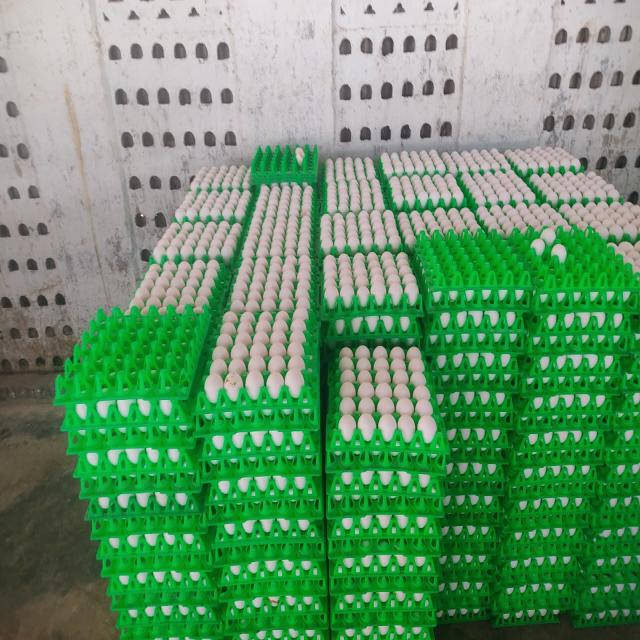egg_tray: (197, 185, 317, 415), (196, 312, 321, 481), (198, 255, 317, 414), (56, 308, 210, 427), (426, 274, 526, 451), (203, 300, 320, 427), (74, 443, 201, 557), (100, 517, 217, 633), (326, 345, 446, 457), (330, 512, 437, 635), (219, 518, 326, 636), (506, 408, 608, 531), (62, 399, 202, 487), (328, 491, 439, 601), (493, 482, 583, 614), (68, 399, 201, 486), (510, 459, 604, 581), (228, 185, 316, 313), (509, 228, 638, 315), (444, 420, 512, 581), (98, 517, 216, 609), (62, 405, 201, 477), (330, 345, 433, 442), (414, 231, 532, 315), (442, 417, 510, 558), (322, 252, 422, 345), (196, 407, 321, 481), (197, 408, 322, 481), (107, 555, 216, 637), (79, 447, 202, 519), (102, 531, 213, 609), (206, 495, 324, 565), (62, 393, 192, 454), (440, 482, 503, 607), (514, 385, 611, 465), (322, 251, 422, 327), (510, 393, 610, 468), (512, 393, 610, 468), (516, 387, 614, 461), (80, 462, 201, 521), (74, 442, 200, 498), (520, 346, 622, 413), (112, 574, 218, 637), (206, 471, 324, 526), (504, 460, 598, 529), (435, 383, 516, 463), (426, 289, 526, 353), (209, 513, 326, 567), (436, 519, 496, 623), (510, 406, 610, 468), (210, 513, 326, 566), (444, 436, 508, 531), (443, 437, 508, 530), (442, 411, 512, 497), (580, 482, 640, 582), (206, 476, 324, 526), (580, 507, 640, 605), (494, 535, 578, 605), (598, 357, 640, 497), (96, 531, 210, 581), (443, 413, 510, 497), (241, 184, 316, 259), (504, 467, 596, 528), (206, 474, 322, 522), (129, 259, 228, 315), (86, 487, 203, 534), (327, 469, 442, 516), (242, 185, 314, 260), (83, 485, 203, 529), (328, 513, 440, 560), (332, 589, 436, 639), (330, 548, 437, 595), (527, 308, 634, 355), (218, 555, 327, 601), (448, 394, 519, 464), (426, 304, 526, 353), (223, 587, 328, 633), (223, 591, 328, 637), (87, 506, 208, 543), (226, 596, 329, 639), (520, 352, 622, 395), (504, 482, 593, 531), (332, 590, 436, 631), (608, 355, 640, 485), (380, 148, 510, 180), (152, 220, 242, 266), (256, 582, 328, 639), (116, 598, 221, 637), (521, 350, 628, 388), (320, 209, 402, 257), (86, 487, 203, 520), (496, 543, 579, 589), (439, 519, 500, 581), (116, 604, 223, 639), (571, 573, 640, 627), (116, 605, 223, 639), (432, 350, 520, 391), (398, 207, 480, 251), (322, 157, 386, 213), (492, 569, 572, 613), (527, 171, 622, 207), (504, 488, 590, 527), (476, 202, 570, 237), (560, 201, 640, 242), (611, 349, 640, 462), (442, 414, 510, 461), (611, 354, 640, 462), (458, 169, 536, 209), (436, 387, 514, 427), (386, 173, 464, 213), (211, 423, 308, 455), (436, 570, 492, 625), (436, 569, 490, 623), (510, 464, 598, 497), (582, 519, 640, 569), (599, 429, 640, 499), (252, 145, 318, 187), (496, 527, 587, 557), (509, 489, 571, 533), (174, 189, 252, 222), (444, 456, 506, 495), (440, 537, 494, 581), (504, 147, 582, 177), (514, 228, 572, 268), (439, 540, 494, 581), (438, 543, 494, 583), (442, 489, 502, 525), (409, 207, 480, 237), (440, 521, 499, 557), (572, 596, 640, 627), (379, 150, 446, 180), (442, 148, 510, 176), (121, 619, 214, 639), (332, 622, 434, 639), (190, 165, 250, 192), (130, 572, 214, 591), (332, 624, 434, 639), (571, 606, 640, 628), (436, 596, 488, 625), (546, 475, 592, 507), (488, 607, 559, 627), (490, 607, 560, 627), (512, 555, 570, 579), (324, 157, 376, 183), (533, 544, 572, 575), (228, 627, 328, 639), (608, 239, 640, 273), (613, 241, 640, 279), (520, 543, 574, 562), (516, 465, 582, 477), (622, 349, 640, 389), (140, 543, 190, 554), (514, 491, 540, 509), (552, 522, 581, 538), (459, 497, 476, 523), (418, 419, 436, 442), (525, 541, 562, 552), (140, 591, 172, 603), (440, 562, 460, 581), (510, 550, 526, 572), (116, 590, 134, 605), (306, 477, 322, 493), (446, 563, 463, 578), (520, 409, 532, 430), (632, 315, 640, 344), (514, 503, 530, 517), (632, 317, 640, 343), (585, 321, 605, 331), (412, 627, 432, 637), (548, 395, 564, 407), (145, 523, 164, 532), (609, 498, 626, 508), (272, 627, 287, 638), (592, 312, 605, 323), (492, 485, 506, 495), (626, 578, 635, 593), (572, 518, 587, 527), (507, 545, 518, 557), (108, 582, 118, 595), (573, 517, 586, 527), (570, 483, 581, 494), (452, 463, 482, 467), (182, 522, 195, 531), (510, 545, 518, 559), (555, 601, 569, 609), (138, 576, 145, 592), (594, 522, 610, 529), (206, 618, 216, 629), (561, 229, 572, 239), (150, 569, 168, 575), (479, 567, 488, 578), (520, 518, 534, 525), (520, 283, 526, 299), (225, 421, 233, 433), (466, 566, 478, 574), (472, 260, 483, 268), (591, 568, 600, 577), (574, 518, 585, 525), (586, 465, 596, 472), (201, 399, 212, 405), (118, 581, 129, 587), (572, 558, 577, 571), (482, 463, 490, 471), (270, 597, 278, 605), (292, 276, 298, 286), (216, 623, 222, 633), (580, 554, 586, 564), (606, 558, 618, 563), (490, 511, 495, 523), (496, 236, 503, 244), (484, 556, 492, 563), (629, 405, 636, 413), (561, 601, 568, 609), (574, 257, 580, 266), (585, 421, 594, 427), (562, 591, 571, 597), (356, 472, 373, 475), (547, 567, 557, 572), (564, 549, 574, 554), (242, 409, 250, 415), (202, 557, 208, 565), (300, 269, 305, 278), (399, 214, 404, 223), (476, 426, 485, 431), (251, 598, 258, 604), (248, 546, 258, 550), (566, 439, 571, 447), (504, 467, 508, 477), (122, 633, 131, 637), (188, 363, 192, 372), (213, 377, 219, 383), (546, 475, 552, 481), (554, 601, 560, 607), (548, 487, 554, 493), (430, 537, 436, 543), (381, 497, 388, 502), (248, 611, 256, 615), (468, 514, 472, 522), (448, 598, 454, 603), (212, 395, 217, 401), (229, 377, 234, 383), (598, 603, 604, 608), (576, 312, 582, 317), (524, 481, 530, 486), (155, 553, 170, 555), (512, 467, 517, 473), (630, 516, 636, 521), (162, 605, 168, 610), (312, 282, 316, 289), (110, 578, 114, 585), (477, 427, 484, 431), (154, 631, 159, 636), (116, 372, 122, 376), (582, 315, 586, 321), (156, 407, 160, 413), (122, 581, 128, 585), (507, 571, 511, 577), (548, 519, 552, 525), (580, 465, 588, 468), (530, 460, 538, 463), (490, 501, 493, 509), (635, 527, 638, 535), (469, 516, 472, 523), (197, 633, 202, 637), (354, 327, 358, 332), (215, 378, 219, 383), (143, 633, 148, 637), (512, 496, 517, 500), (532, 485, 536, 490), (522, 547, 527, 551), (631, 543, 636, 547), (280, 596, 285, 600), (109, 535, 112, 541), (582, 500, 588, 503), (469, 567, 472, 573), (176, 533, 180, 537), (276, 551, 280, 555), (288, 479, 292, 483), (492, 465, 500, 467), (206, 411, 210, 415), (256, 259, 260, 263), (584, 501, 588, 505), (632, 499, 636, 503), (556, 593, 560, 597), (486, 559, 490, 563), (140, 603, 144, 607), (243, 627, 247, 631), (192, 634, 197, 637), (276, 411, 281, 414), (234, 350, 237, 355), (109, 554, 114, 557), (381, 492, 386, 495), (143, 567, 148, 570), (489, 566, 492, 571), (574, 487, 579, 490), (566, 522, 571, 525), (171, 567, 178, 569), (98, 551, 100, 558), (141, 566, 148, 568), (574, 503, 576, 510), (514, 294, 516, 301), (216, 613, 219, 617), (184, 534, 188, 537), (240, 419, 246, 421), (221, 386, 224, 390), (302, 283, 306, 286), (284, 263, 290, 265), (240, 634, 244, 637), (449, 550, 455, 552), (540, 467, 544, 470), (568, 478, 572, 481), (308, 511, 312, 514), (548, 523, 554, 525), (605, 575, 608, 579), (438, 506, 441, 510), (435, 480, 439, 483), (180, 567, 183, 571), (616, 585, 619, 589), (562, 483, 566, 486), (110, 413, 114, 416), (488, 322, 490, 328), (76, 424, 80, 427), (630, 564, 632, 570), (150, 589, 153, 593), (523, 553, 526, 557), (566, 522, 570, 525), (565, 471, 568, 475), (140, 518, 144, 521), (583, 436, 586, 440), (538, 435, 541, 439), (485, 426, 488, 430), (323, 588, 326, 592), (192, 556, 197, 558), (285, 289, 290, 291), (232, 376, 234, 381), (496, 465, 501, 467), (600, 451, 602, 456), (558, 478, 563, 480), (630, 516, 632, 521), (118, 401, 123, 403), (140, 571, 150, 572), (241, 267, 246, 269), (196, 599, 201, 601), (504, 292, 506, 297), (259, 635, 264, 637), (265, 283, 268, 286), (140, 553, 143, 556), (123, 634, 126, 637), (442, 569, 445, 572), (548, 593, 551, 596), (149, 579, 152, 582), (441, 557, 444, 560), (549, 602, 552, 605), (607, 531, 610, 534), (272, 479, 274, 483), (440, 603, 444, 605), (495, 483, 499, 485), (380, 471, 384, 473), (128, 541, 132, 543), (308, 375, 312, 377), (478, 501, 482, 503), (526, 523, 530, 525), (503, 601, 505, 605), (441, 570, 443, 574), (376, 635, 384, 636), (276, 635, 280, 637), (384, 472, 391, 473), (236, 635, 243, 636), (298, 489, 304, 490), (208, 446, 210, 449), (282, 300, 288, 301), (214, 338, 216, 341), (526, 480, 529, 482), (564, 478, 567, 480), (461, 555, 464, 557), (610, 603, 613, 605), (300, 511, 302, 514), (576, 401, 579, 403), (438, 499, 440, 502), (206, 548, 208, 551), (141, 548, 144, 550), (178, 527, 180, 530), (505, 570, 508, 572), (581, 523, 584, 525), (633, 292, 636, 294), (143, 581, 146, 583), (203, 589, 206, 591), (502, 532, 504, 535), (514, 522, 516, 525), (108, 539, 110, 542), (448, 429, 450, 432), (226, 524, 228, 527), (573, 503, 574, 508), (132, 635, 136, 636), (182, 555, 184, 557), (541, 411, 543, 413), (486, 455, 488, 457), (208, 417, 210, 419), (210, 381, 211, 385), (238, 635, 240, 637), (326, 631, 328, 633), (152, 310, 154, 312), (468, 551, 472, 552), (580, 535, 582, 537), (549, 471, 550, 475), (123, 617, 124, 621), (92, 535, 94, 537), (594, 473, 596, 475), (314, 385, 316, 387), (474, 329, 476, 331), (468, 319, 470, 321), (560, 589, 562, 591), (148, 562, 150, 564), (462, 567, 464, 569), (130, 589, 134, 590), (112, 589, 114, 591), (132, 585, 134, 587), (172, 566, 176, 567), (556, 575, 560, 576), (530, 549, 532, 551), (430, 470, 432, 472), (574, 567, 576, 569), (557, 567, 561, 568), (564, 566, 568, 567), (502, 425, 504, 427), (294, 635, 296, 637), (212, 488, 213, 491), (528, 469, 531, 470), (400, 471, 403, 472), (210, 621, 211, 624), (283, 471, 286, 472), (537, 493, 540, 494), (514, 540, 515, 543), (195, 629, 196, 631), (215, 607, 217, 608), (108, 480, 110, 481), (542, 294, 544, 295), (462, 458, 464, 459), (483, 238, 485, 239), (638, 491, 640, 492), (233, 414, 235, 415), (282, 513, 284, 514), (545, 489, 547, 490), (190, 616, 192, 617), (464, 442, 466, 443), (542, 604, 544, 605), (176, 571, 178, 572), (196, 516, 198, 517), (523, 418, 524, 420), (156, 316, 157, 317), (508, 433, 509, 434), (598, 505, 599, 506), (563, 489, 564, 490), (509, 425, 510, 426), (505, 576, 506, 577), (373, 627, 374, 628), (533, 536, 534, 537), (321, 600, 322, 601), (150, 609, 150, 610), (187, 623, 187, 623), (281, 541, 283, 541), (258, 541, 260, 541), (268, 489, 268, 490), (234, 483, 234, 484), (370, 516, 370, 517), (365, 516, 365, 517), (90, 467, 90, 468), (528, 409, 528, 410), (390, 327, 390, 328), (325, 591, 325, 592), (461, 527, 462, 527), (448, 465, 450, 465), (594, 319, 594, 319), (292, 417, 292, 419), (210, 407, 210, 407), (214, 392, 214, 393), (301, 289, 301, 290), (403, 233, 403, 237), (190, 525, 192, 525), (477, 551, 477, 552), (232, 346, 232, 348), (236, 316, 236, 317), (449, 534, 449, 536), (457, 463, 466, 463), (592, 489, 592, 492), (530, 469, 530, 470), (463, 552, 463, 554), (121, 554, 121, 555), (186, 529, 189, 529), (636, 605, 636, 605), (577, 589, 577, 590), (636, 516, 636, 518), (617, 407, 617, 408), (254, 511, 254, 512), (541, 524, 541, 525), (581, 467, 582, 467), (572, 402, 572, 403), (392, 480, 392, 482), (396, 479, 396, 482), (150, 576, 150, 577), (90, 509, 90, 511), (218, 614, 218, 615), (92, 523, 94, 523), (612, 587, 612, 588), (180, 525, 182, 525), (472, 489, 472, 491), (450, 514, 450, 515), (494, 407, 494, 408), (512, 403, 512, 406), (123, 412, 123, 413), (481, 423, 481, 423), (552, 595, 552, 597), (258, 541, 259, 541), (74, 416, 74, 418), (159, 566, 159, 568), (448, 430, 448, 431), (212, 594, 212, 595), (514, 607, 521, 607), (504, 607, 507, 607), (518, 501, 518, 501), (525, 571, 525, 572), (508, 551, 508, 552), (557, 523, 559, 523), (425, 462, 425, 464), (374, 463, 375, 463), (332, 369, 332, 370), (521, 568, 521, 570), (514, 562, 514, 563), (514, 558, 514, 559), (514, 527, 516, 527), (463, 387, 463, 388), (196, 600, 196, 601), (485, 523, 487, 523), (480, 423, 482, 423), (599, 461, 599, 461), (530, 532, 530, 533), (265, 608, 265, 609), (150, 608, 150, 610), (165, 608, 165, 609), (450, 297, 450, 301), (239, 629, 239, 630)
